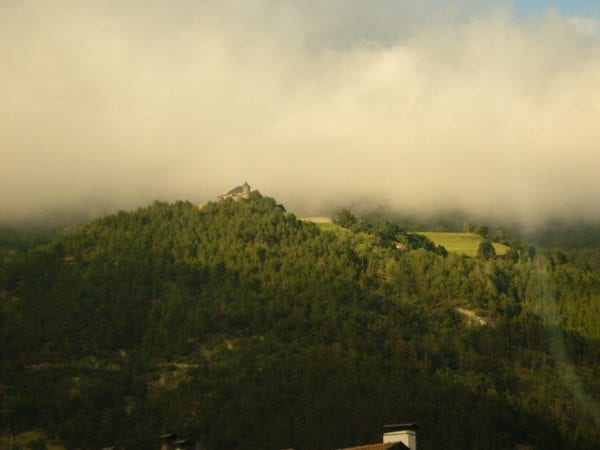Stratus: (4, 2, 600, 233)
